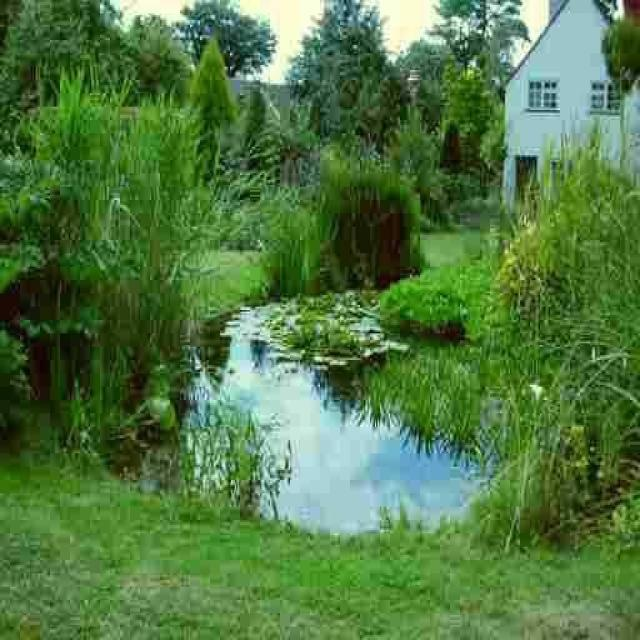Ponds: (108, 296, 508, 541)
